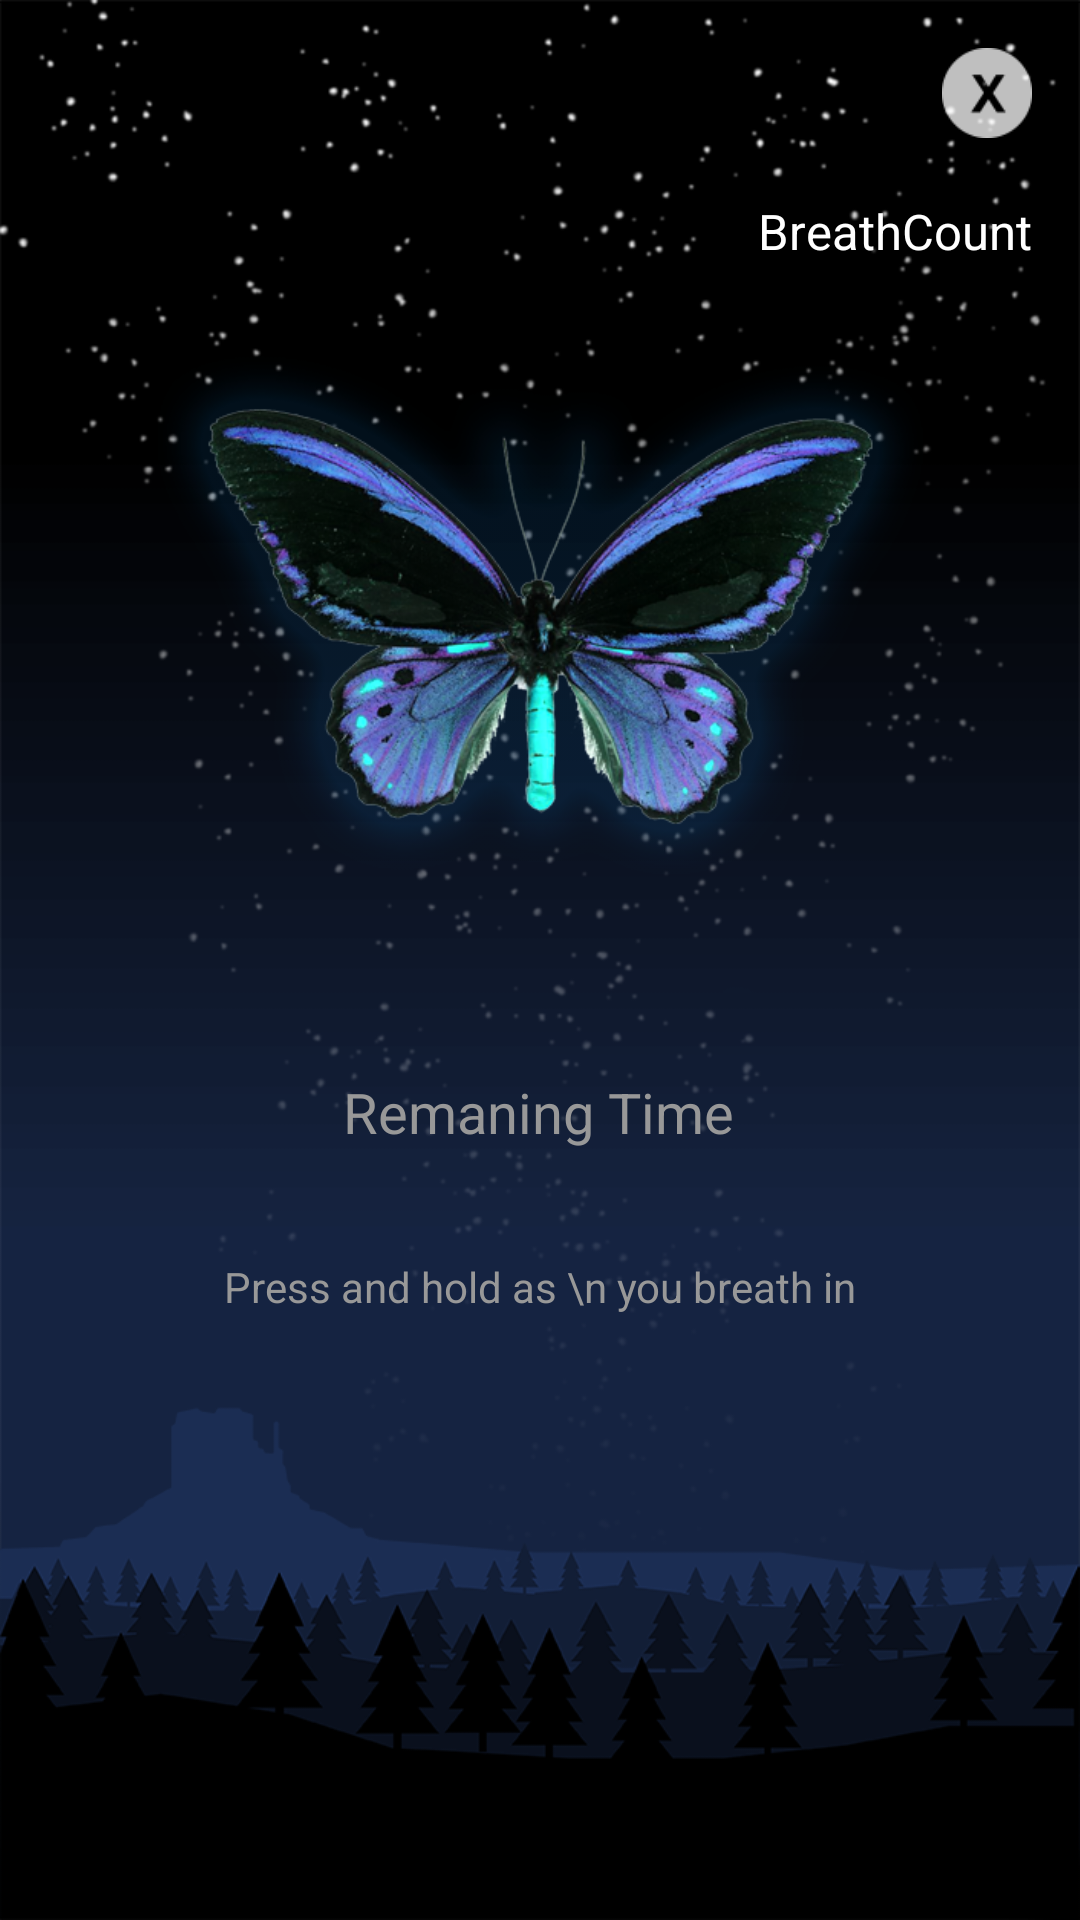

Named icons in this screenshot (1080*1920) and their centers, point (x, y):
exit breathing: point (987, 93)
